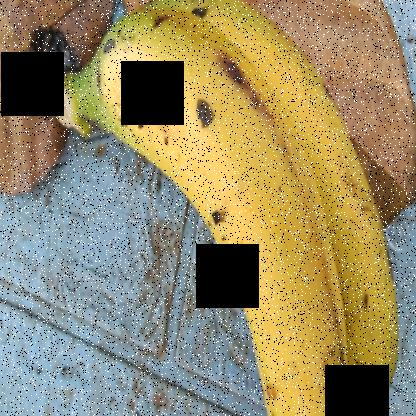ripe: (88, 11, 353, 415)
